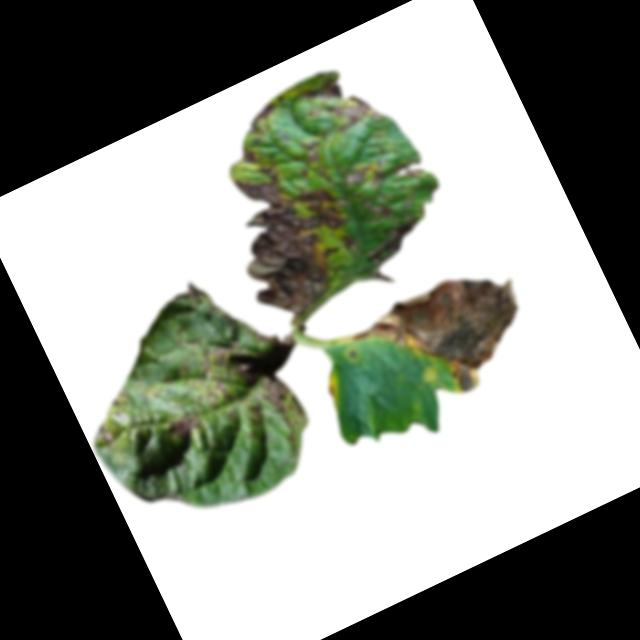Early_blight: (206, 141, 381, 331), (355, 251, 547, 422), (184, 304, 324, 457), (344, 182, 434, 275), (325, 87, 381, 135), (337, 156, 392, 201), (300, 75, 347, 113), (243, 101, 283, 138), (167, 411, 203, 445), (391, 155, 427, 187), (172, 276, 207, 306), (319, 372, 345, 403), (236, 143, 261, 171)
